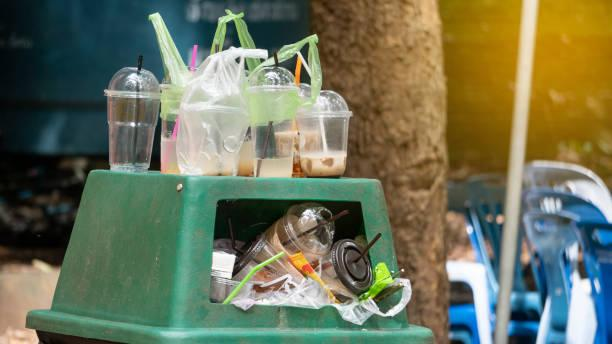trash: (85, 1, 363, 180), (207, 209, 389, 318)
trash_can_overflow: (29, 3, 440, 344)
